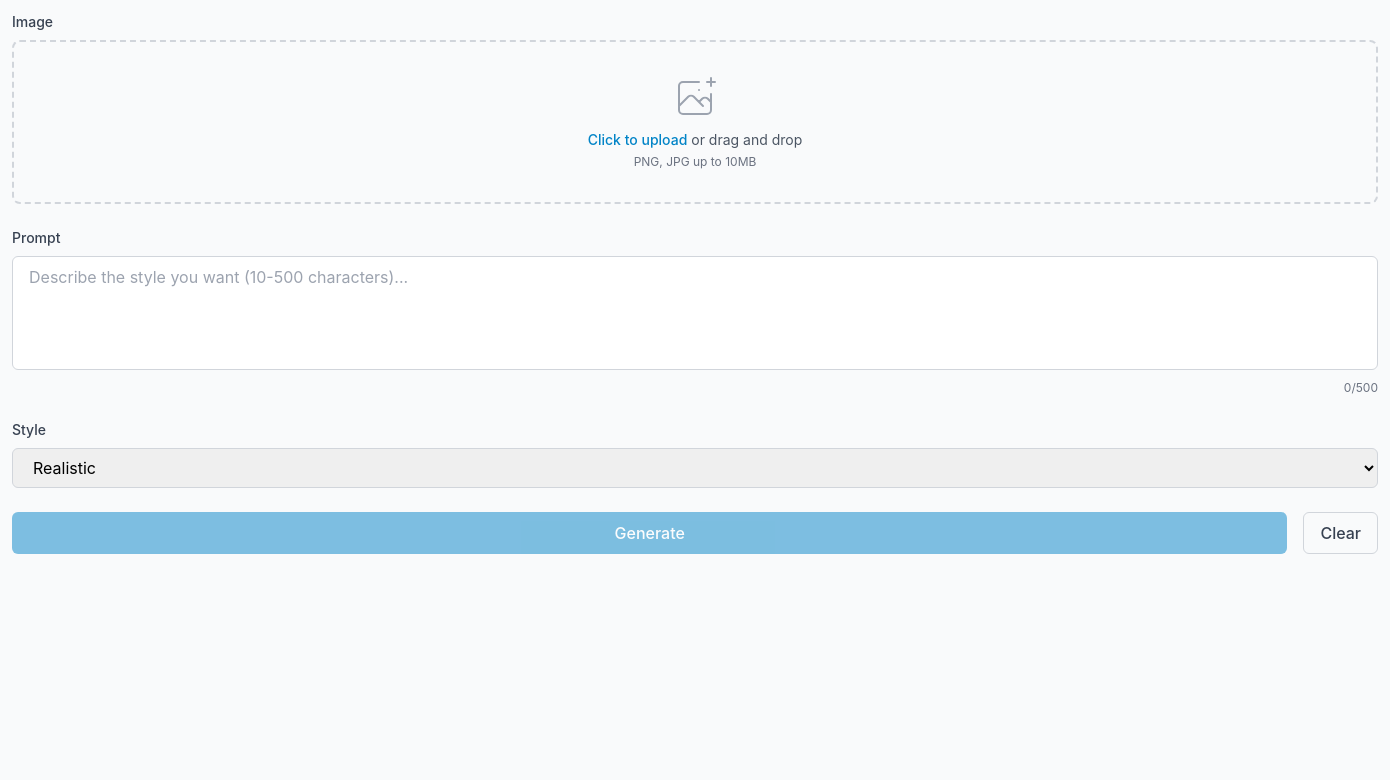
Test: GenerationForm › Validation › should update character counter as user types
Type "Hello" into the text box labelled "Prompt". click: (695, 313)
box: x1=12 y1=256 x2=1378 y2=370
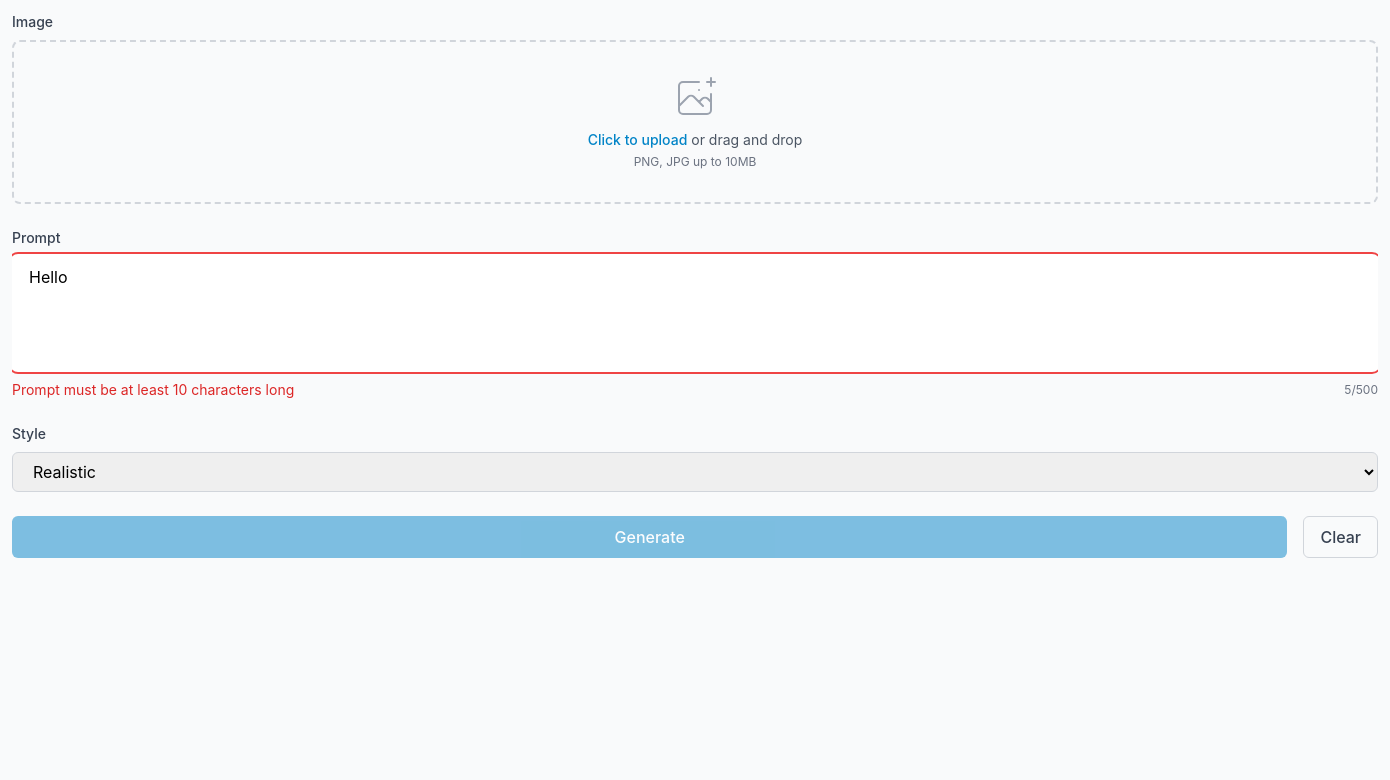
expect the text "5/500" is shown: met, box x1=1344 y1=382 x2=1378 y2=398
